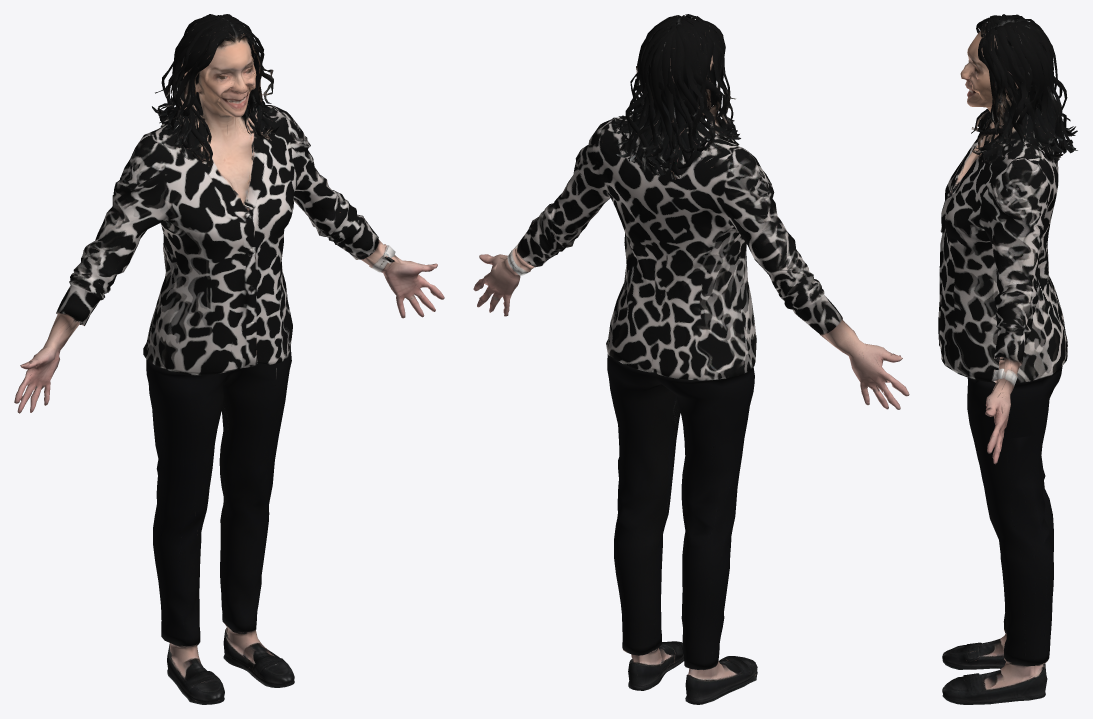
Rendered from Meshy_AI_Open_Arms_Portrait_1016162633_texture.obj.
The picture shows the model from 3 angles, left to right: view 1: azimuth 30°, elevation 25°; view 2: azimuth 150°, elevation 25°; view 3: azimuth 270°, elevation 25°; orthographic projection.
Visible parts, largest first — view 1: Meshy_AI_Open_Arms_Portrait_1016162633_texture; view 2: Meshy_AI_Open_Arms_Portrait_1016162633_texture; view 3: Meshy_AI_Open_Arms_Portrait_1016162633_texture.
Boxes of the visible parts, x1,y1,x2,y2 form: Meshy_AI_Open_Arms_Portrait_1016162633_texture: (14, 14, 444, 704); Meshy_AI_Open_Arms_Portrait_1016162633_texture: (473, 14, 909, 704); Meshy_AI_Open_Arms_Portrait_1016162633_texture: (938, 14, 1077, 704).
Bounding box in the file's own units: 0.6509 × 0.9502 × 0.1821.
Materials: 1 (1 with a texture image).
